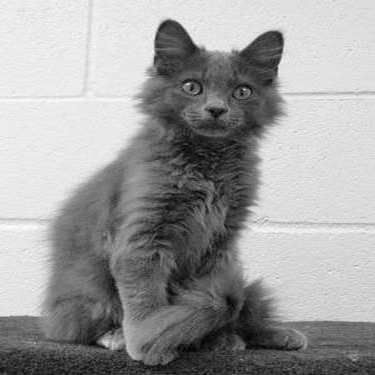cat: (38, 17, 309, 369)
